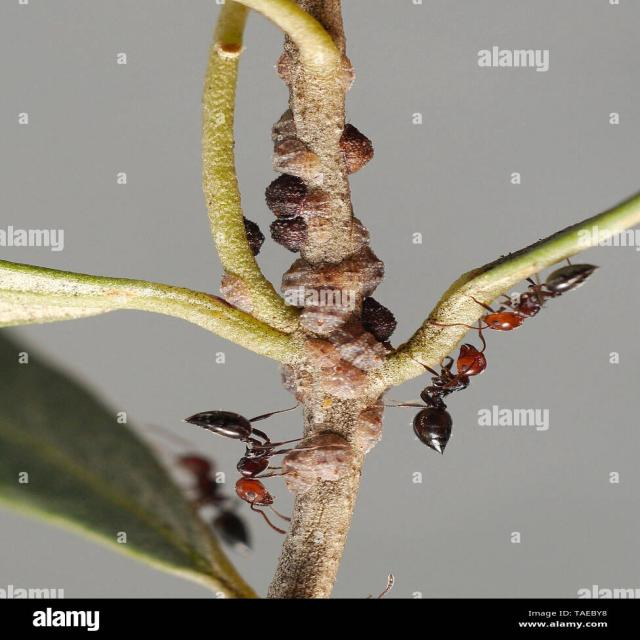Black Scale: (282, 248, 400, 397), (265, 110, 326, 253), (339, 124, 374, 175), (244, 216, 265, 256)
